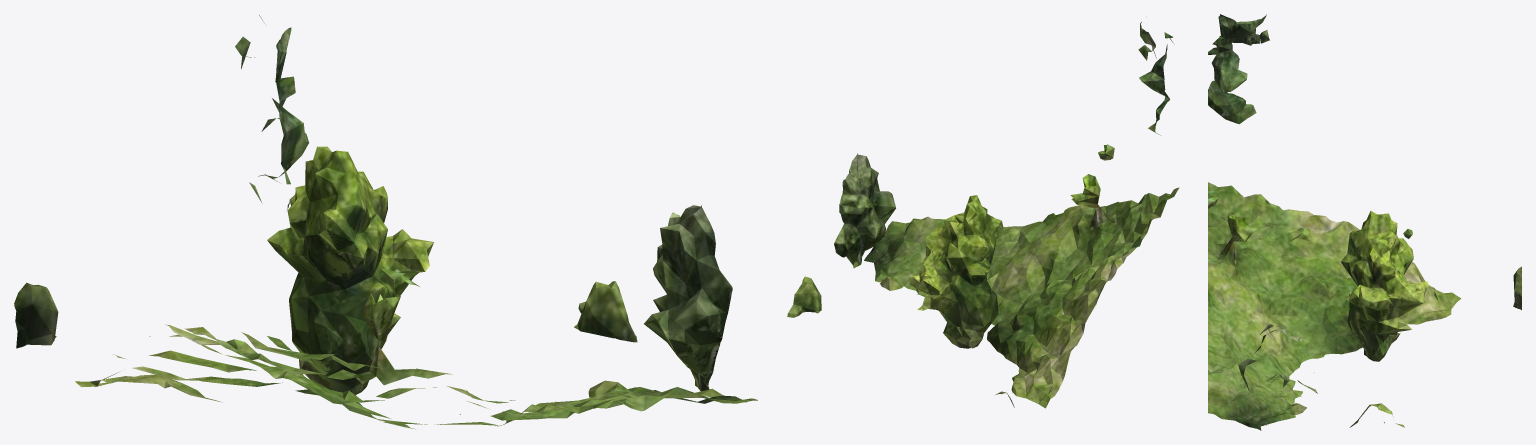
3 views of the same model, side by side, from view 1: azimuth 30°, elevation 25°; view 2: azimuth 150°, elevation 25°; view 3: azimuth 270°, elevation 25° (orthographic). The views are drawn at different scales.
Bounding box in the file's own units: 26.11 × 26.11 × 26.11.
Materials: 3 (3 with a texture image).
